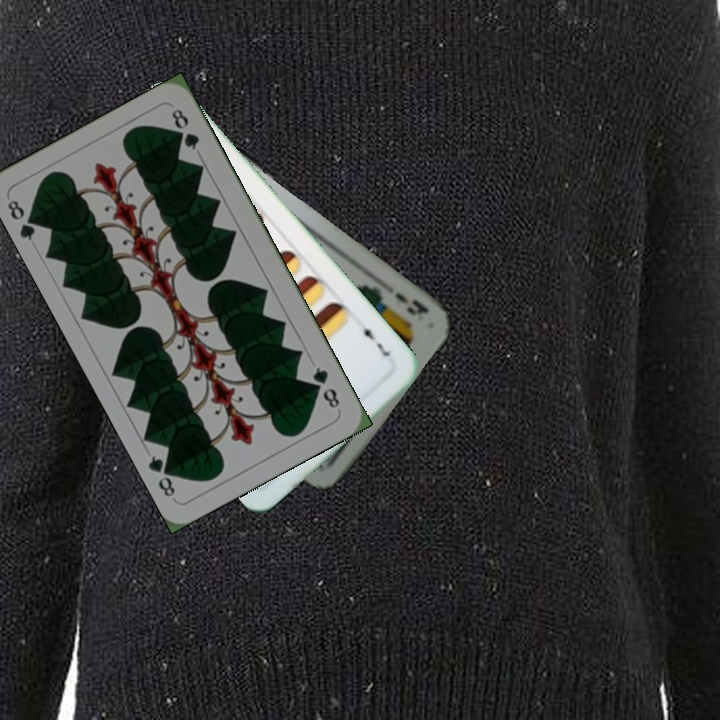E7: (357, 318, 394, 360)
EK: (390, 288, 431, 318)
G8: (3, 195, 43, 244), (308, 362, 343, 411)
